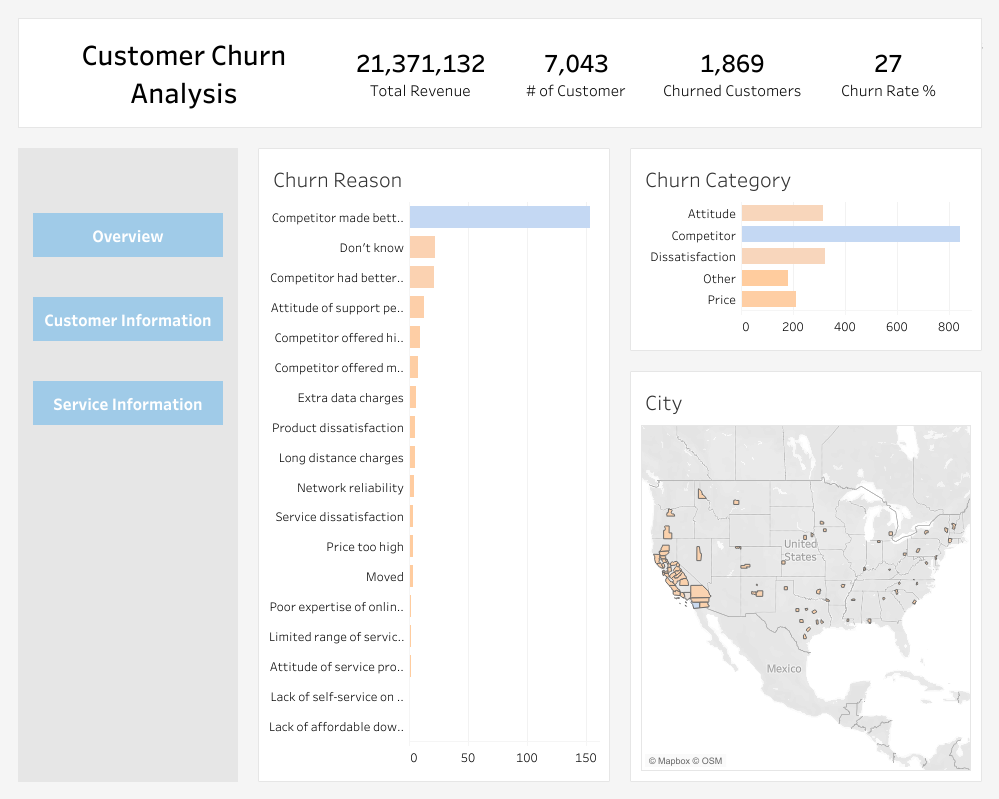

The dashboard page shown, as its layout file describes it:
{"tool":"tableau","page":{"name":"Customer Churn Overview","canvas":[1000,800],"ordinal":1},"visuals":[{"type":"blank","box":[0,0,1000,800]},{"type":"text","box":[271,8,491,44]},{"type":"dashboard-object","box":[442,83,164,52]},{"type":"dashboard-object","box":[263,84,162,50]},{"type":"dashboard-object","box":[620,84,163,50]},{"type":"worksheet","title":"Number of Churned Customer","mark":"Automatic","box":[572,169,247,131]},{"type":"worksheet","title":"Total Customer","mark":"Automatic","box":[387,170,197,148]},{"type":"worksheet","title":"Total Revenue","mark":"Automatic","box":[115,196,217,92]},{"type":"worksheet","title":"Churn Reason","mark":"Automatic","rows":["Churn Reason"],"cols":["Customer ID"],"box":[21,305,458,473]},{"type":"worksheet","title":"Revenue","mark":"Automatic","rows":["Customer Status"],"cols":["Total Revenue"],"box":[539,332,333,197]},{"type":"worksheet","title":"Churn Category","mark":"Automatic","box":[537,534,436,239]}]}

Visuals, with their boxes in screenshot pixels (x1, y1, x2, y2), scaled from the page's 1000x800 canvas onto the 999x799 screenshot:
blank: (0,0,998,798)
text: (271,8,761,52)
dashboard-object: (442,83,605,135)
dashboard-object: (263,84,425,134)
dashboard-object: (619,84,782,134)
"Number of Churned Customer" worksheet: (571,169,818,300)
"Total Customer" worksheet: (387,170,583,318)
"Total Revenue" worksheet: (115,196,332,288)
"Churn Reason" worksheet: (21,305,479,777)
"Revenue" worksheet: (538,332,871,528)
"Churn Category" worksheet: (536,533,972,772)
